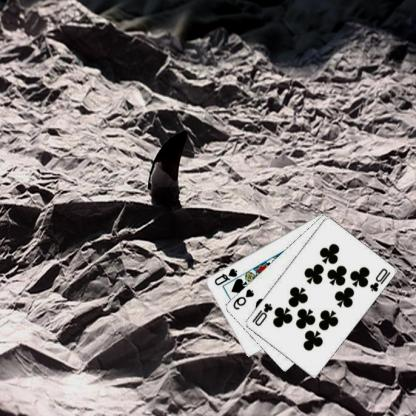10C: (368, 266, 393, 293), (251, 300, 275, 328)
6S: (232, 286, 256, 311)
QS: (214, 266, 240, 286)
